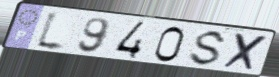0: (152, 25, 187, 63)
4: (113, 20, 148, 61)
9: (77, 18, 111, 55)
L: (33, 9, 68, 54)
S: (187, 29, 229, 68)
X: (220, 31, 271, 73)
